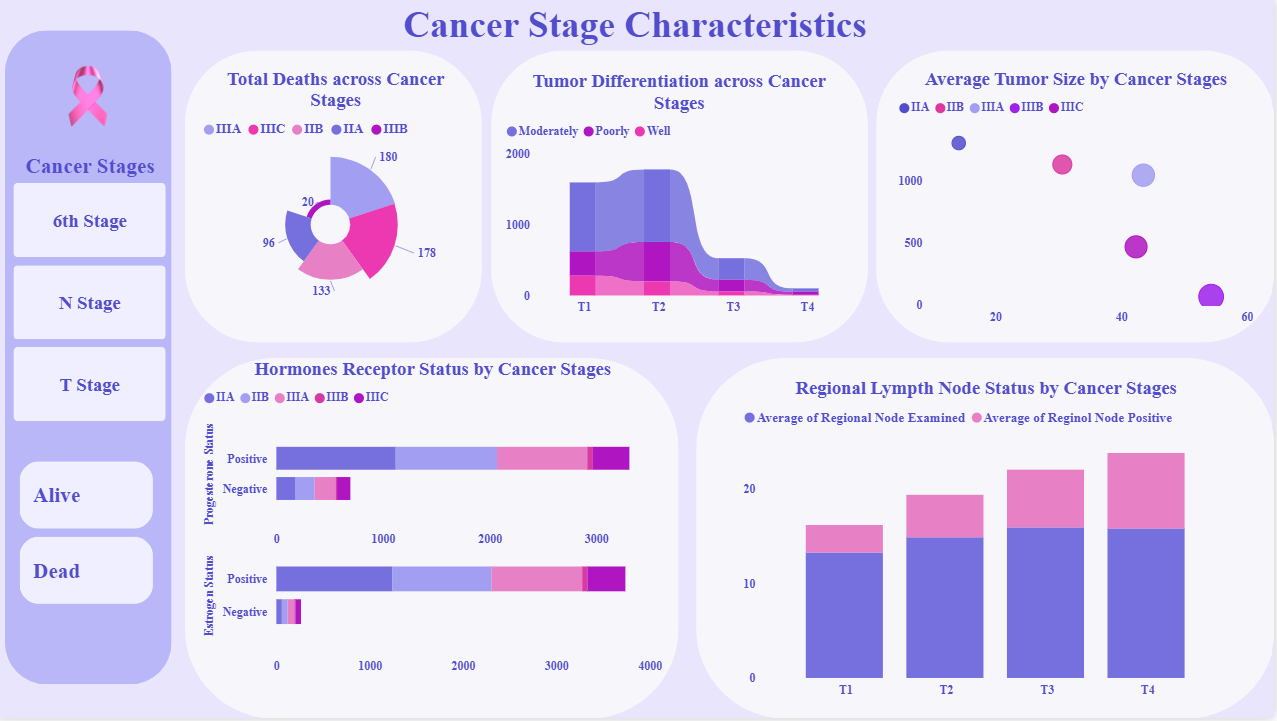

Layout of this report page (visuals, bound fields, positions):
{"tool":"powerbi","page":{"name":"Page 2","canvas":[1280,720],"ordinal":1},"visuals":[{"type":"shape","box":[9.7,53.1,166.5,653.9],"z":500},{"type":"shape","box":[700.9,359.5,579.1,360.7],"z":1000},{"type":"shape","box":[190.6,359.5,493.4,360.7],"z":2000},{"type":"shape","box":[880.7,53.1,399.3,292],"z":3000},{"type":"shape","box":[495.8,53.1,376.4,292],"z":4000},{"type":"shape","box":[190.6,53.1,296.8,292],"z":5000},{"type":"advancedSlicerVisual","title":"Cancer Stages","fields":{"Values":["Stage Parameter.Stage Parameter"]},"box":[10.9,166.5,162.9,273.9],"z":6000},{"type":"columnChart","title":"Regional Lympth Node Status by Stage ","fields":{"Category":["Breast_Cancer.6th Stage","Breast_Cancer.N Stage","Breast_Cancer.T Stage "],"Y":["Avg(Breast_Cancer.Regional Node Examined)","Avg(Breast_Cancer.Reginol Node Positive)"]},"box":[743.2,378.8,494.6,328.2],"z":7000},{"type":"AsterPlot1443303142064","title":"Total Deaths across Stage ","fields":{"Category":["Breast_Cancer.6th Stage"],"Y":["Breast_Cancer.Total Deaths"]},"box":[199.1,70,278.7,252.1],"z":8000},{"type":"ribbonChart","title":"Tumor Differentiation across Stage","fields":{"Category":["Breast_Cancer.6th Stage","Breast_Cancer.N Stage","Breast_Cancer.T Stage "],"Y":["Breast_Cancer.Total Patients"],"Series":["Breast_Cancer.differentiate"]},"box":[498.3,70,372.8,252.1],"z":9000},{"type":"scatterChart","title":"Average Tumor Size across Stage ","fields":{"Series":["Breast_Cancer.6th Stage"],"X":["Breast_Cancer.Average Tumor Size"],"Y":["Breast_Cancer.Total Patients"],"Size":["Breast_Cancer.Average Tumor Size"]},"box":[898.8,70,364.3,264.2],"z":10000},{"type":"advancedSlicerVisual","fields":{"Values":["Breast_Cancer.Status"]},"box":[20.5,458.4,143.6,153.2],"z":11000},{"type":"barChart","title":"Hormones Receptor Status by Stage ","fields":{"Series":["Breast_Cancer.6th Stage"],"Y":["Breast_Cancer.Total Patients"],"Category":["Breast_Cancer.Progesterone Status"]},"box":[203.9,359.5,468.1,196.6],"z":12000},{"type":"barChart","fields":{"Series":["Breast_Cancer.6th Stage"],"Category":["Breast_Cancer.Estrogen Status"],"Y":["Breast_Cancer.Total Patients"]},"box":[203.9,526,468.1,156.8],"z":13000},{"type":"image","box":[33.8,53.1,118.2,113.4],"z":14000},{"type":"textbox","box":[0,0,1280,53.1],"z":14001}]}

Visuals, with their boxes in screenshot pixels (x1, y1, x2, y2), scaled from the page's 1280x720 canvas onto the 1277x721 screenshot:
shape: locate(10, 53, 176, 708)
shape: locate(699, 360, 1276, 720)
shape: locate(190, 360, 682, 720)
shape: locate(879, 53, 1276, 346)
shape: locate(495, 53, 870, 346)
shape: locate(190, 53, 486, 346)
"Cancer Stages" advancedSlicerVisual: locate(11, 167, 173, 441)
"Regional Lympth Node Status by Stage " columnChart: locate(741, 379, 1235, 708)
"Total Deaths across Stage " AsterPlot1443303142064: locate(199, 70, 477, 323)
"Tumor Differentiation across Stage" ribbonChart: locate(497, 70, 869, 323)
"Average Tumor Size across Stage " scatterChart: locate(897, 70, 1260, 335)
advancedSlicerVisual - Breast_Cancer.Status: locate(20, 459, 164, 612)
"Hormones Receptor Status by Stage " barChart: locate(203, 360, 670, 557)
barChart - Breast_Cancer.6th Stage x Breast_Cancer.Estrogen Status: locate(203, 527, 670, 684)
image: locate(34, 53, 152, 167)
textbox: locate(0, 0, 1276, 53)
